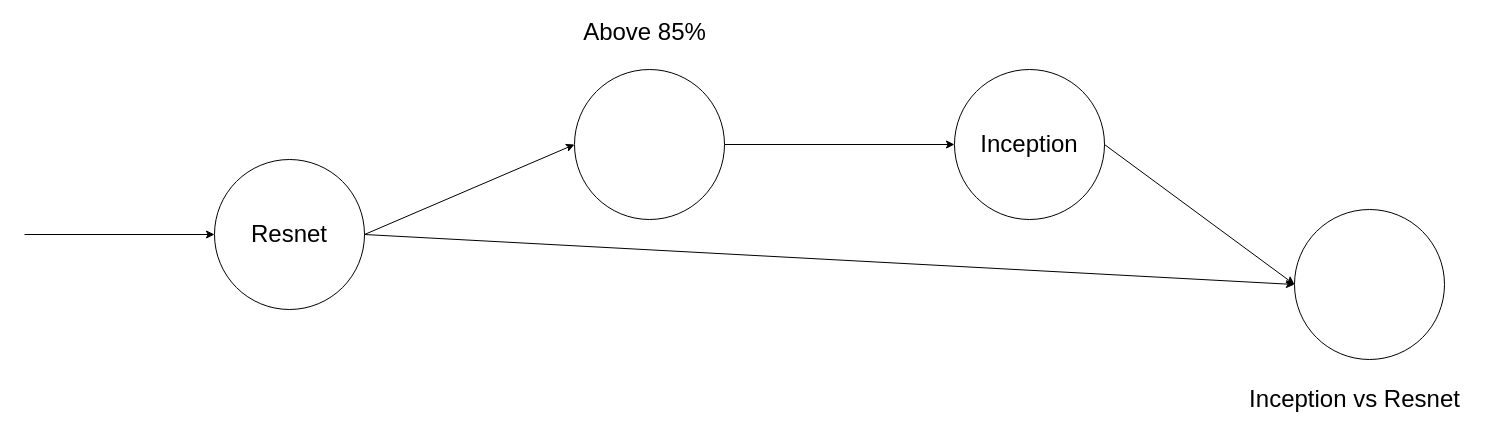
The diagram is 1487 pixels wide and 431 high, and some of its shapes have lost their labels. Each missing label, with the box of its shape:
Combiner: (1294, 208, 1444, 360)
Router: (574, 68, 724, 220)
